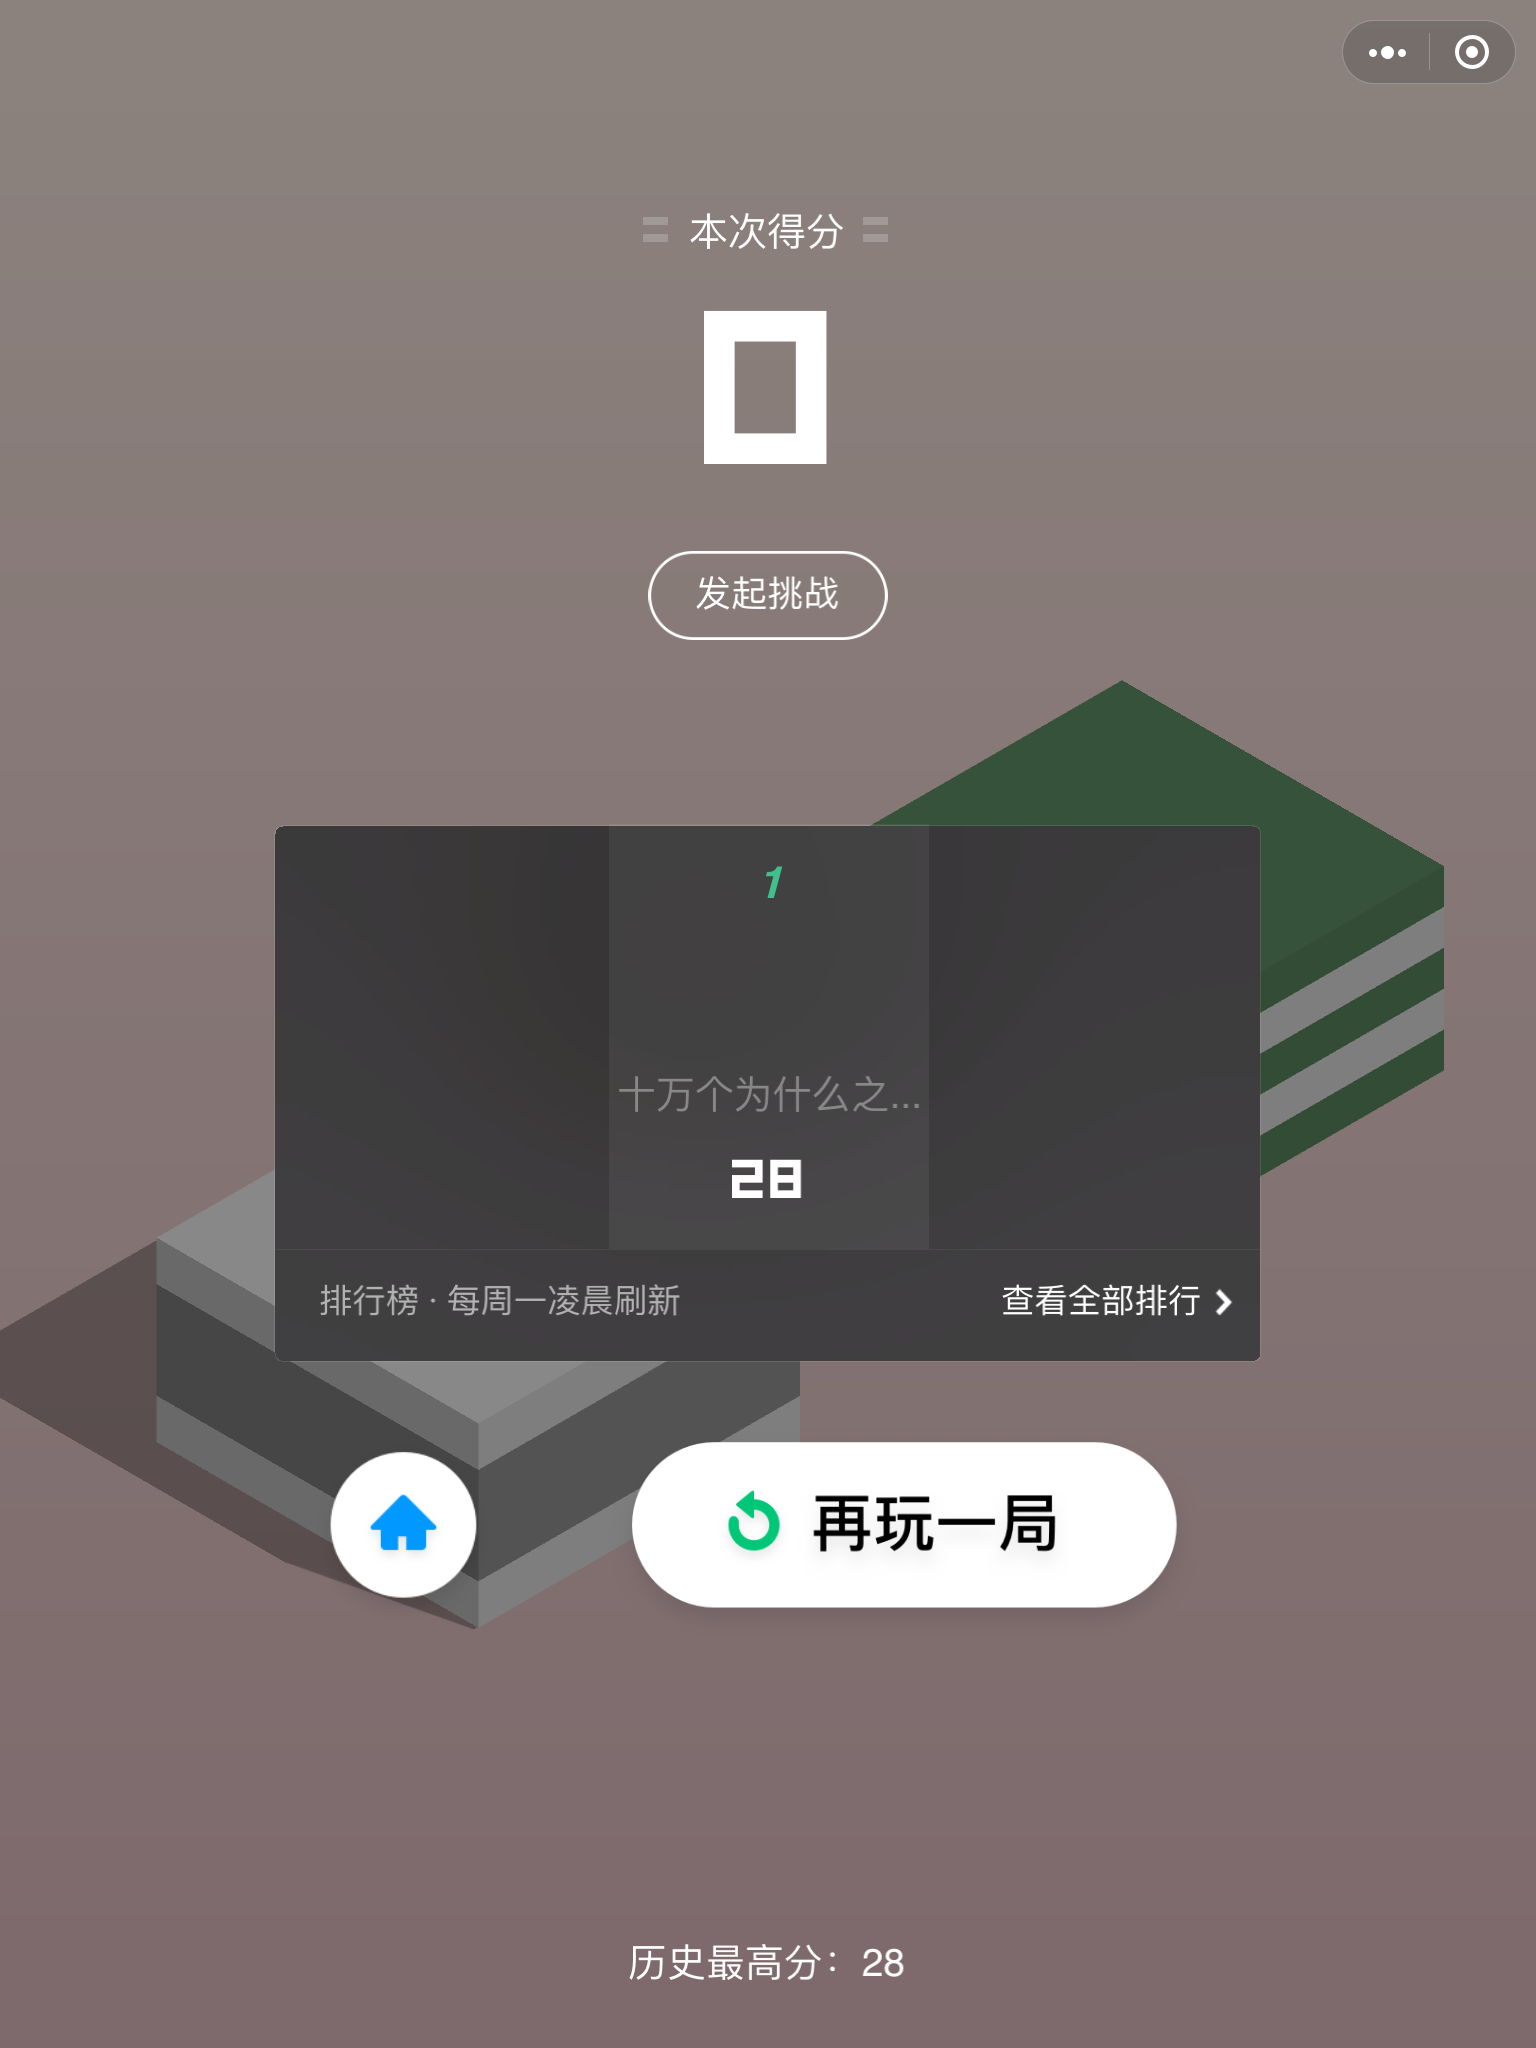f: (153, 1106, 803, 1637), (866, 677, 1450, 1206)
s: (621, 1434, 1186, 1629)
